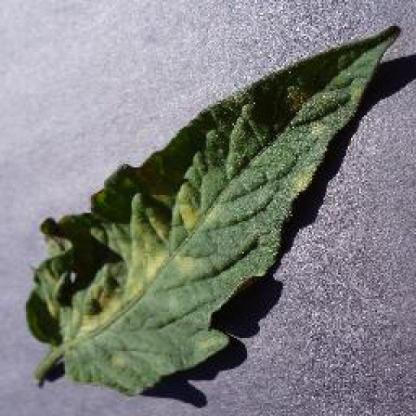Tomato_Leaf_Mold: (43, 24, 404, 395)
